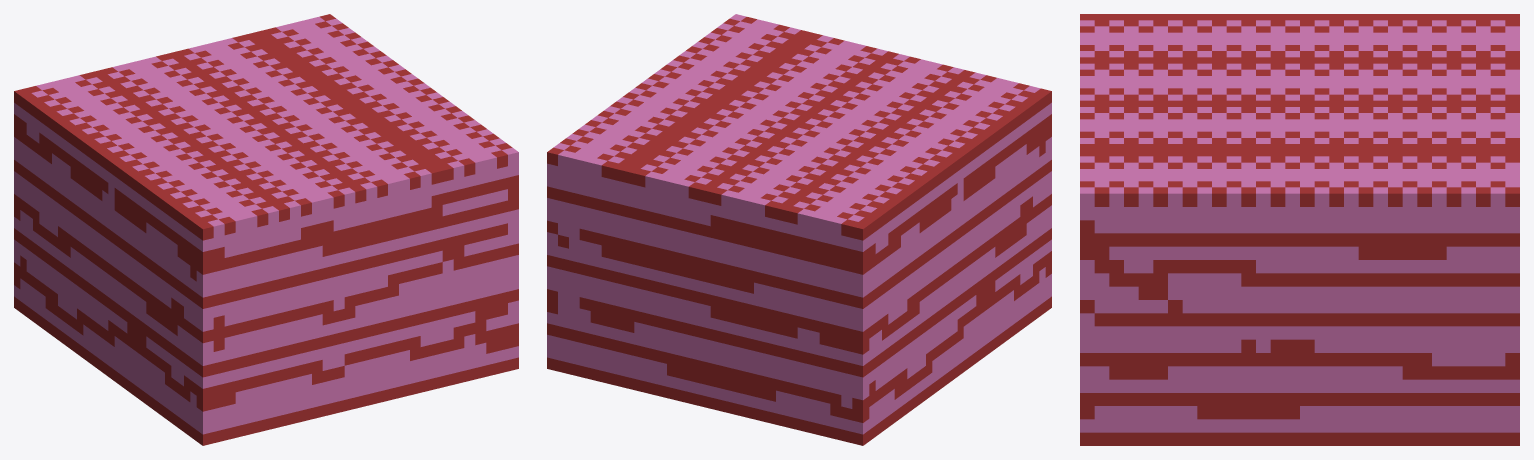
Rendered from silk.obj.
The picture shows the model from 3 angles, left to right: view 1: azimuth 30°, elevation 25°; view 2: azimuth 150°, elevation 25°; view 3: azimuth 270°, elevation 25°; orthographic projection. The views are drawn at different scales.
Bounding box in the file's own units: 2.9 × 1.9 × 3.
1 material, 1 textured.
